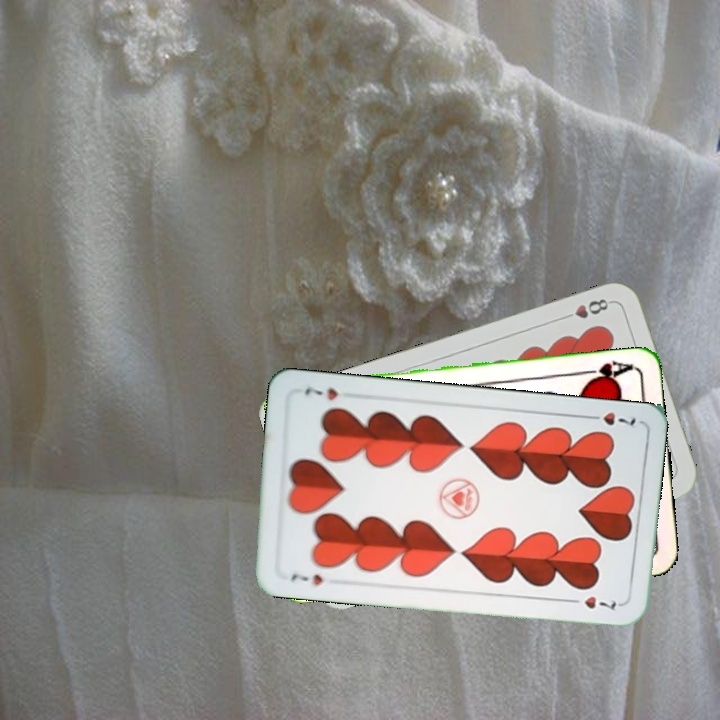H7: (582, 407, 638, 429), (287, 570, 325, 588)
H8: (557, 294, 614, 323)
HA: (577, 356, 636, 386)
